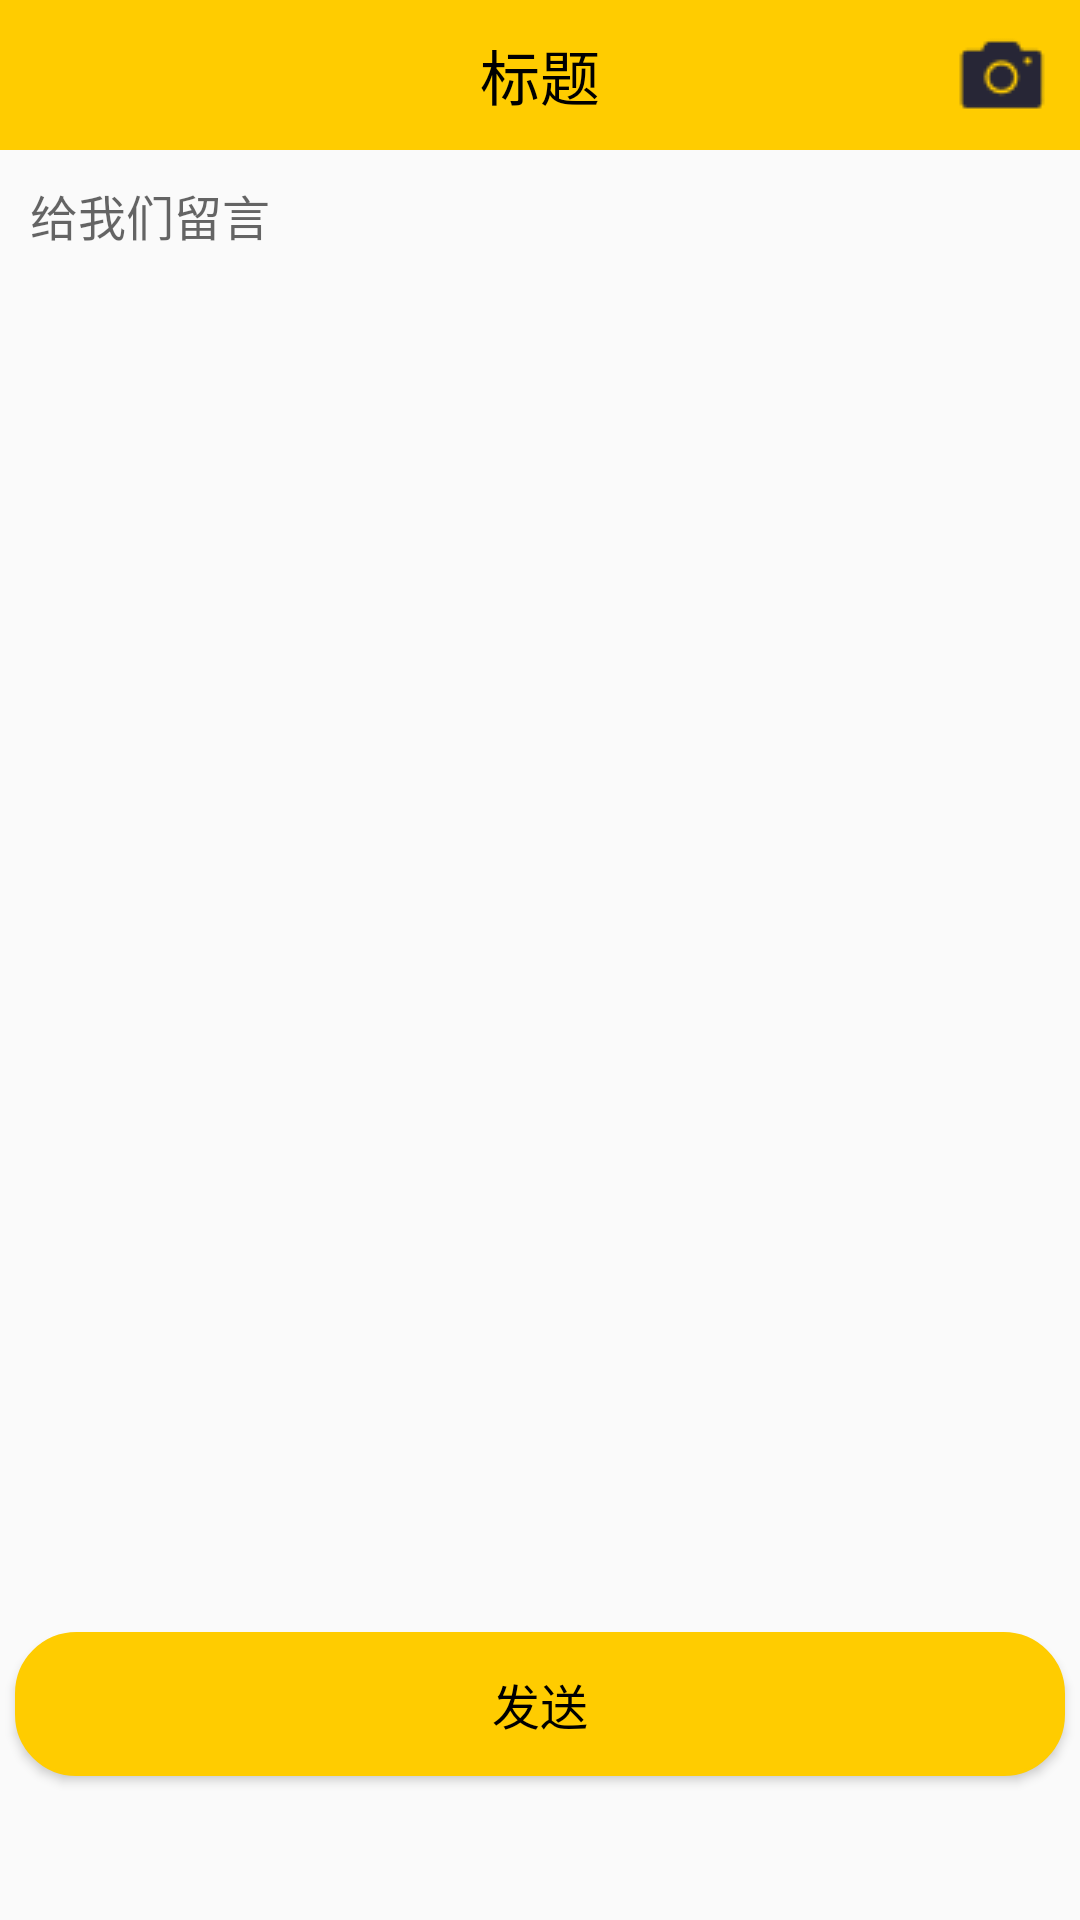

Screen size 1080x1920. Icon name, then its box in pixels as (x1, y1, x2, y2):
camera: (959, 41, 1044, 109)
